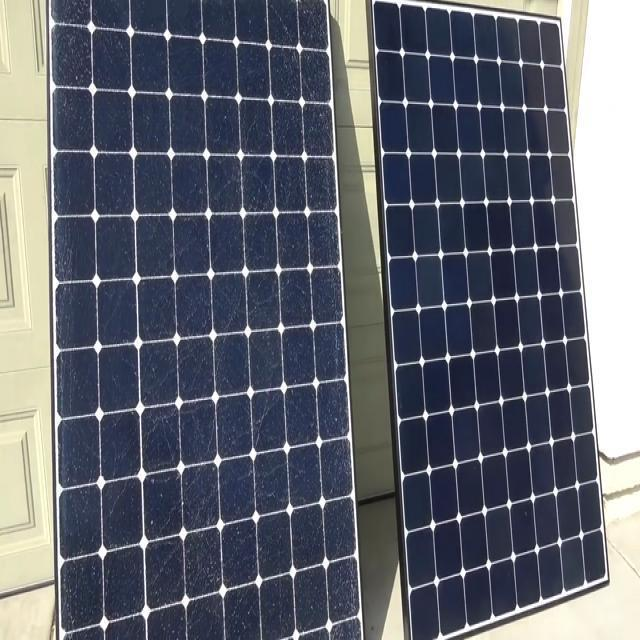Normal Solar Panel: (368, 0, 608, 640)
